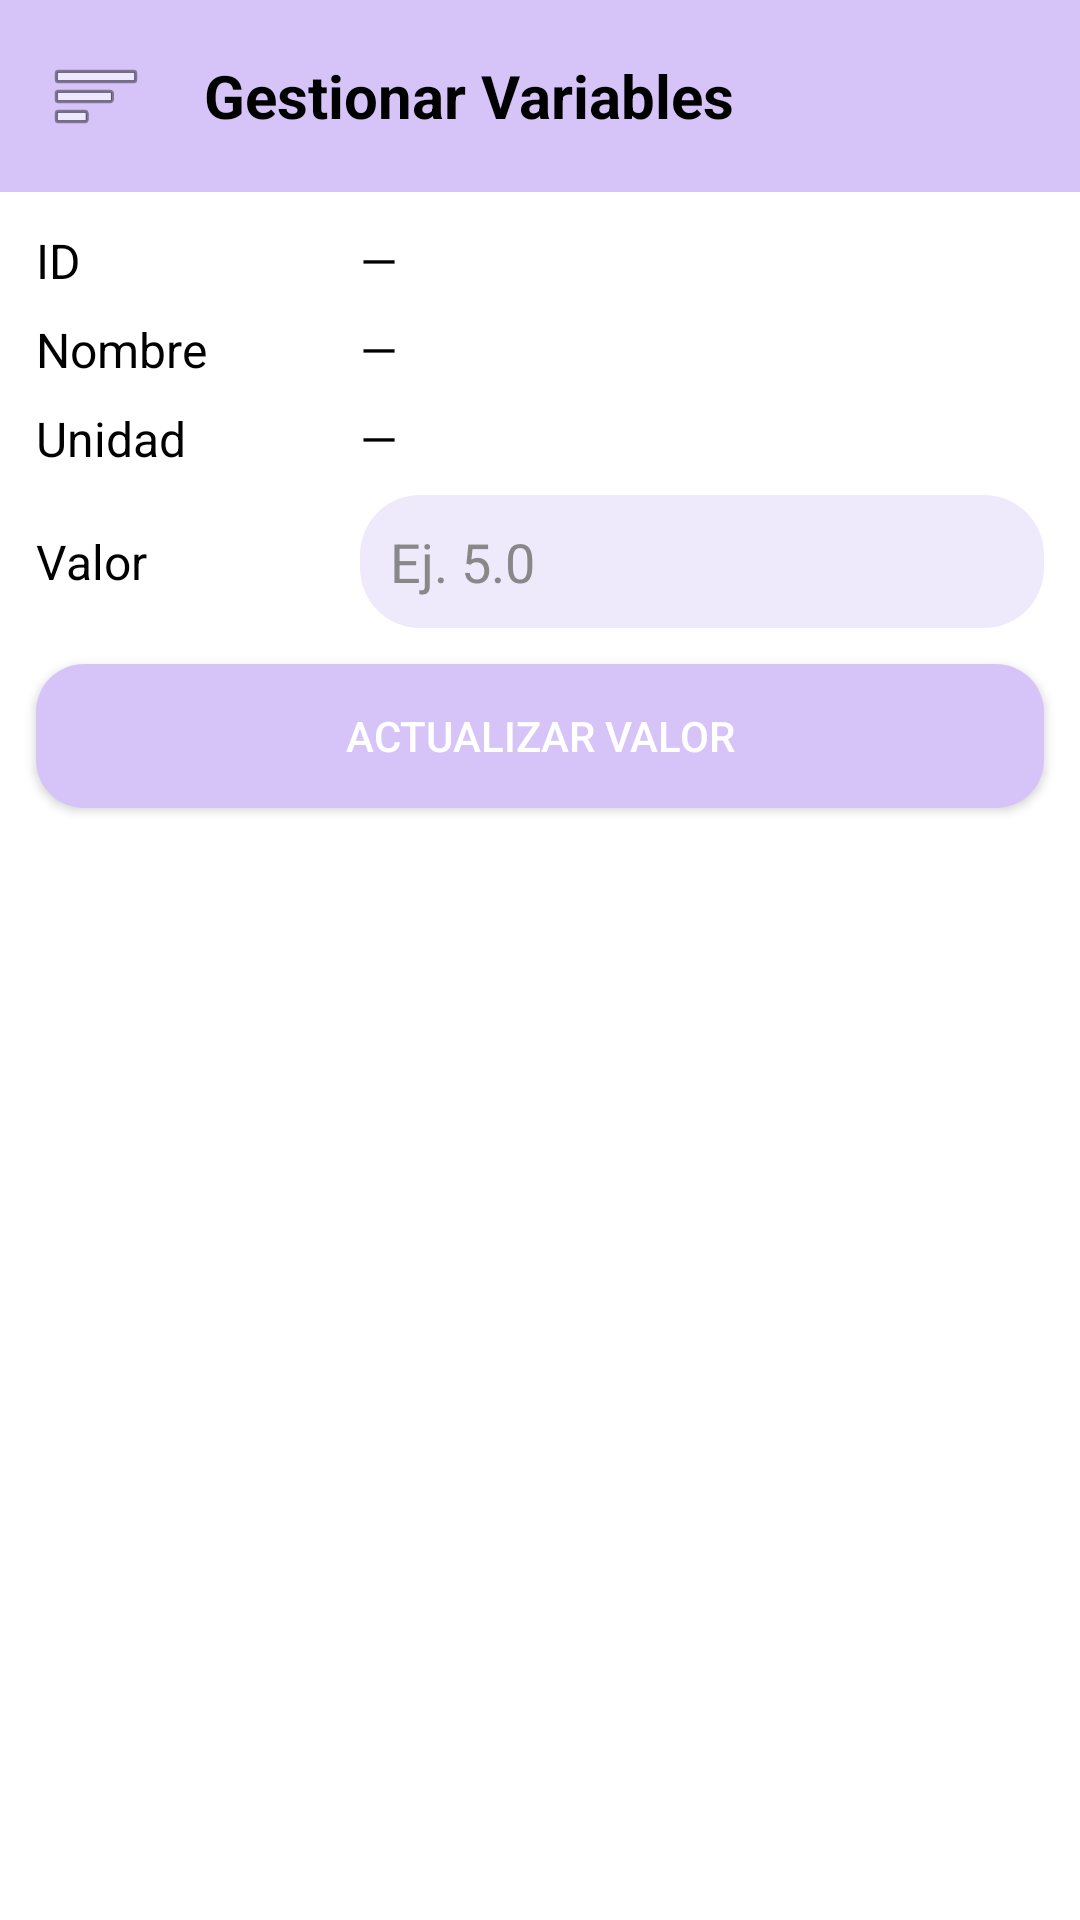

Screen size 1080 x 1920. Icon name, then its center in pixels as point (x, y):
Abrir menú: point (96, 96)
